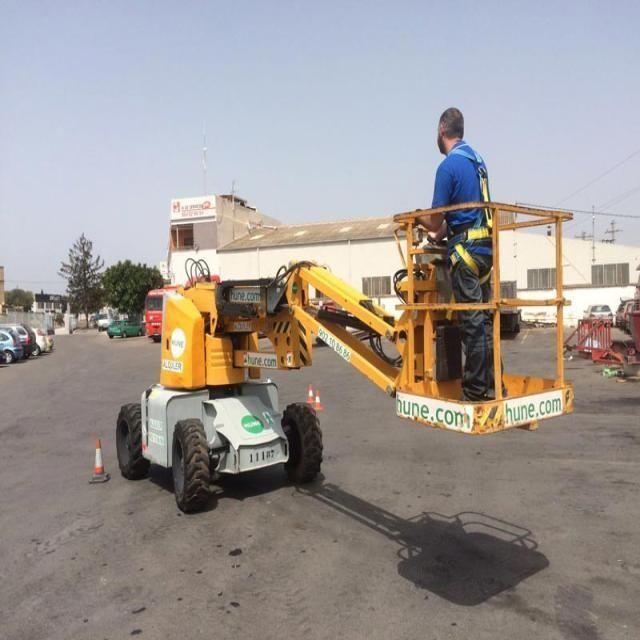Arnes_seguridad: (450, 148, 494, 288)
